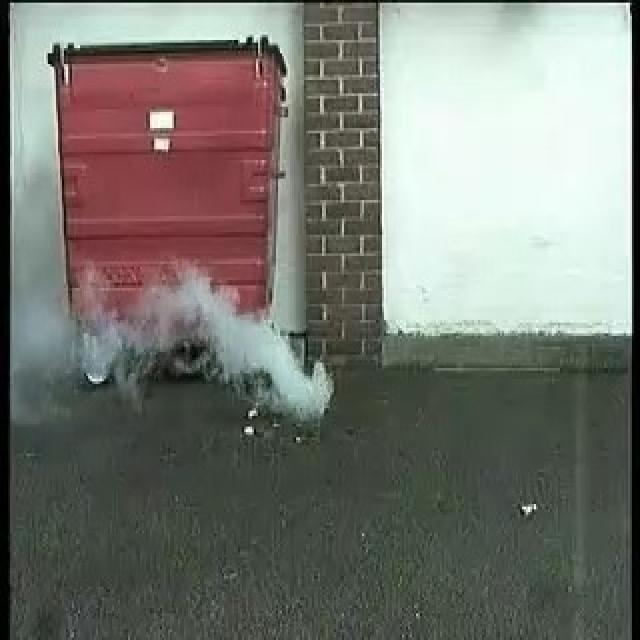smoke: (85, 265, 334, 414)
